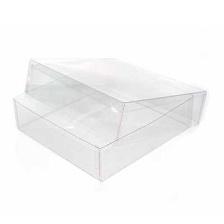plastic_box: (6, 47, 212, 186)
